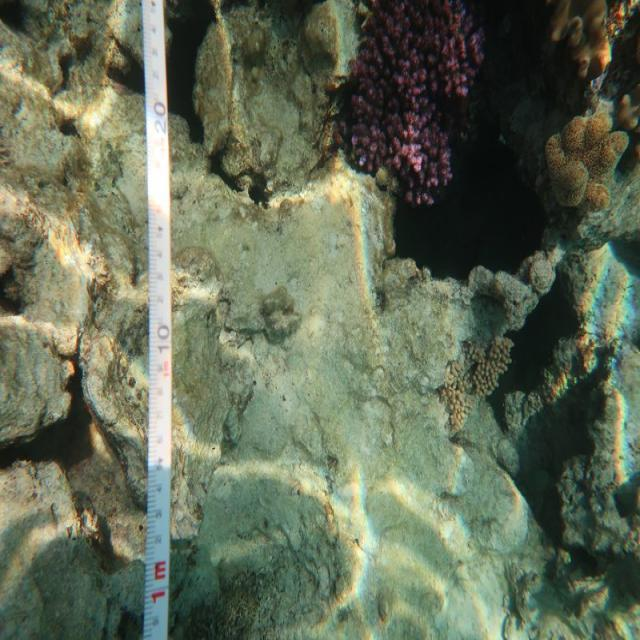Healthy Coral: (332, 0, 489, 205), (550, 118, 631, 218)
